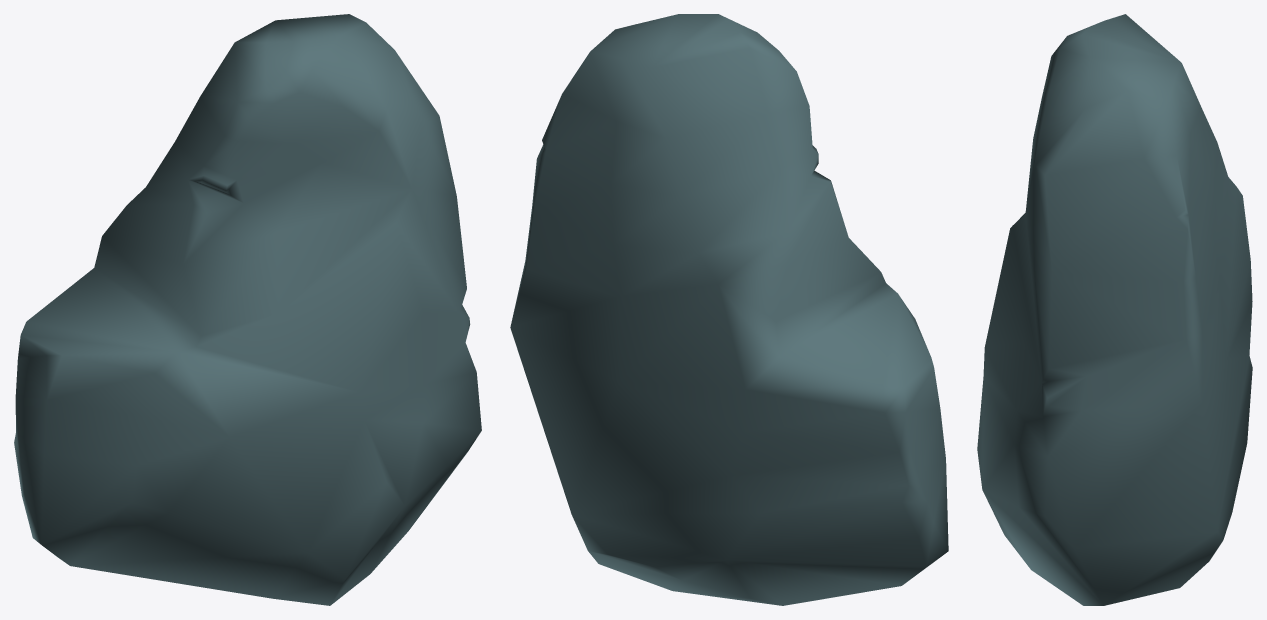
Rendered from rock_02.glb.
3 renders of one model, left to right at view 1: azimuth 30°, elevation 25°; view 2: azimuth 150°, elevation 25°; view 3: azimuth 270°, elevation 25°, orthographic. The views are drawn at different scales.
Parts seen in each view (by area): view 1: rockmodel2; view 2: rockmodel2; view 3: rockmodel2.
Part boxes in pixels (x1,y1,x2,y2): rockmodel2: [14, 14, 481, 605]; rockmodel2: [510, 14, 948, 605]; rockmodel2: [977, 14, 1252, 605].
Bounding box in the file's own units: 0.727 × 0.9537 × 0.435.
